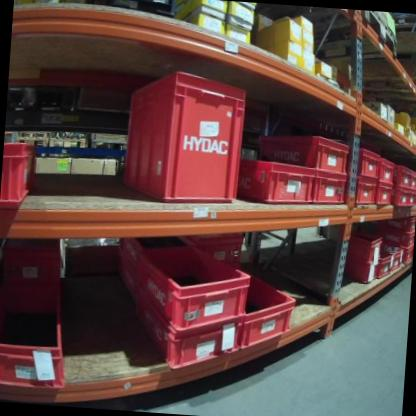small_load_carrier: (114, 62, 250, 207), (135, 250, 257, 328), (0, 285, 78, 394), (130, 308, 245, 378), (235, 264, 304, 361), (257, 132, 353, 176), (239, 157, 318, 209), (180, 229, 246, 284), (1, 233, 64, 285), (0, 141, 41, 214), (343, 230, 384, 266), (311, 173, 351, 202), (350, 145, 380, 179), (344, 258, 378, 282), (353, 178, 379, 207), (382, 244, 405, 272), (376, 217, 415, 232), (378, 230, 413, 246), (376, 251, 394, 279), (390, 188, 411, 211), (374, 185, 394, 208), (380, 158, 396, 186), (394, 165, 412, 188), (402, 247, 413, 265), (409, 191, 416, 208), (410, 172, 416, 191)
